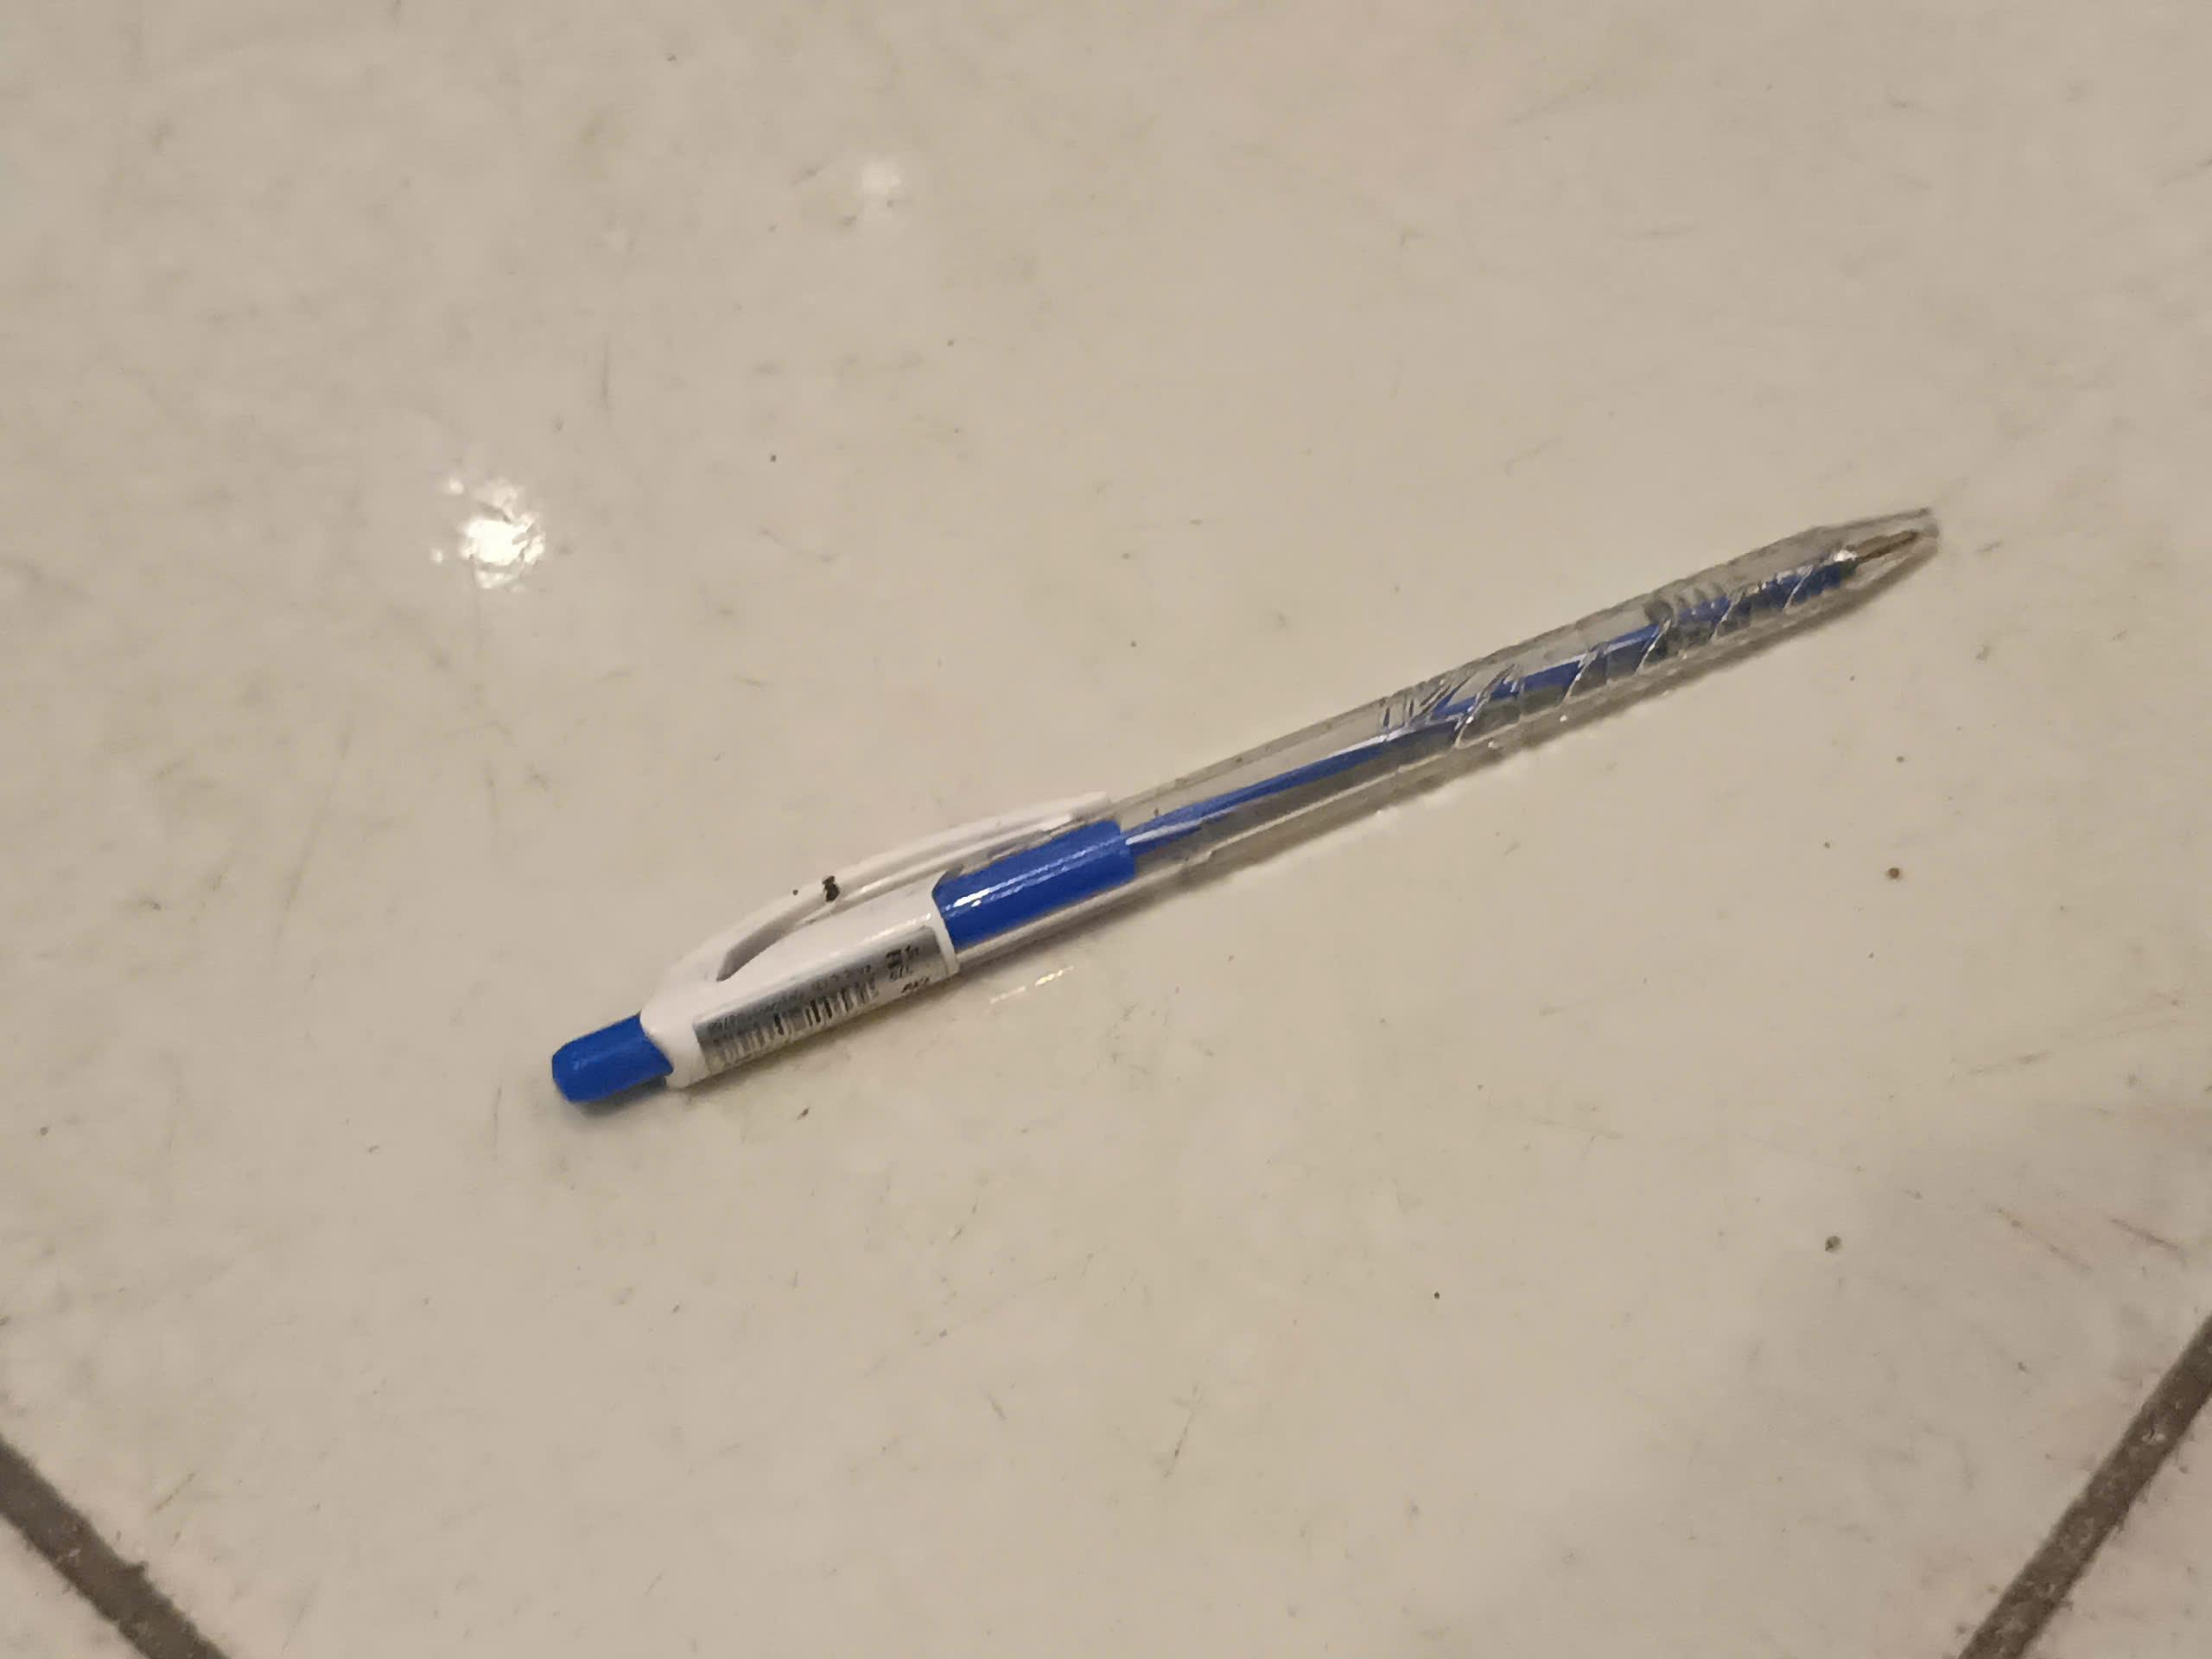Con lai: (554, 507, 1935, 1105)
